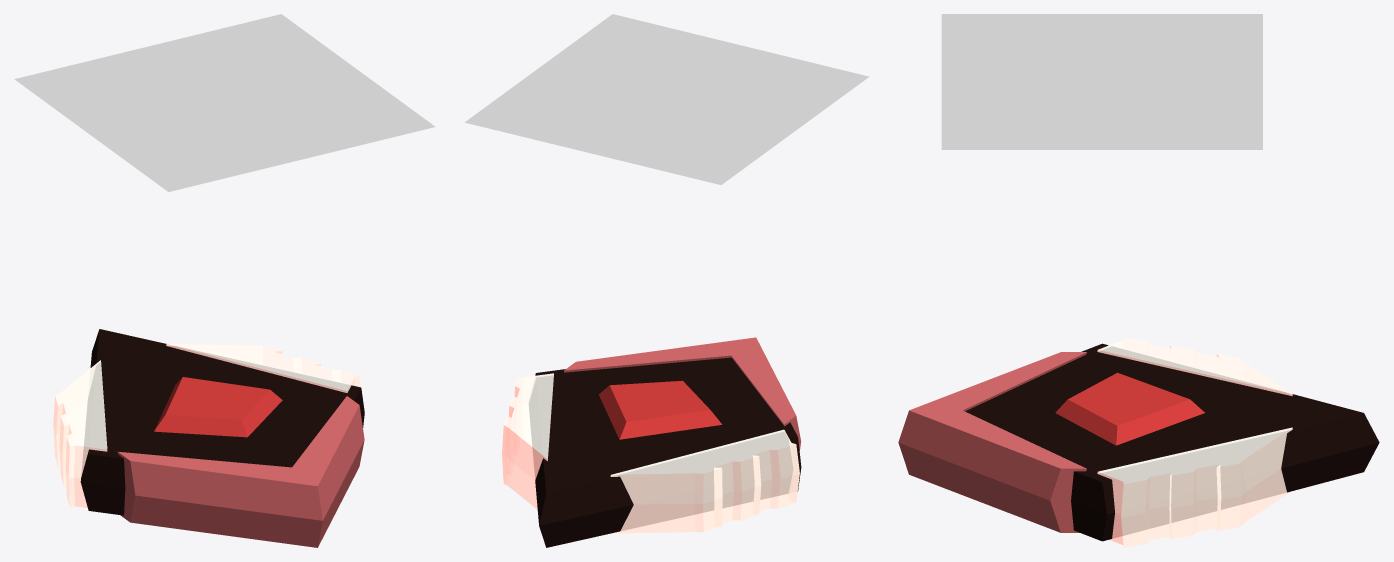
Rendered from red.fbx.
3 renders of one model, left to right at view 1: azimuth 30°, elevation 25°; view 2: azimuth 150°, elevation 25°; view 3: azimuth 270°, elevation 25°, orthographic. The views are drawn at different scales.
Visible parts, largest first — view 1: Plane, Cube, Cube.002, Cube.001; view 2: Plane, Cube, Cube.001, Cube.002; view 3: Cube, Plane, Cube.001, Cube.002.
Part boxes in pixels (left/top/right/bottom): Plane: left=14, top=14, right=435, bottom=191; Cube: left=80, top=329, right=364, bottom=515; Cube.002: left=117, top=396, right=364, bottom=547; Cube.001: left=53, top=344, right=360, bottom=507; Plane: left=464, top=14, right=868, bottom=184; Cube: left=529, top=357, right=801, bottom=547; Cube.001: left=502, top=373, right=799, bottom=533; Cube.002: left=564, top=337, right=801, bottom=450; Cube: left=965, top=343, right=1379, bottom=541; Plane: left=941, top=14, right=1262, bottom=149; Cube.001: left=1097, top=337, right=1292, bottom=547; Cube.002: left=898, top=352, right=1086, bottom=532.
Size of the model in its own units: 221 by 270 by 299.
